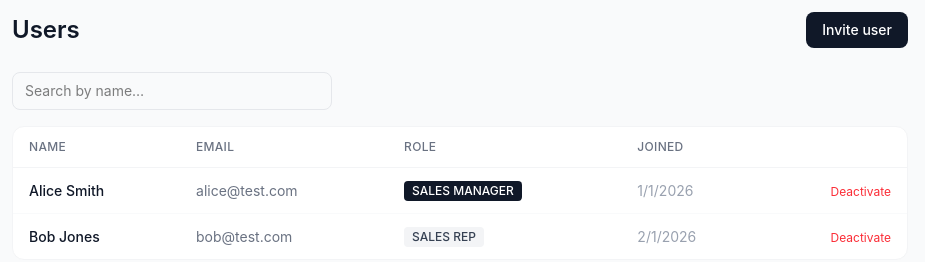
Scenario: UsersPage › filters users when search input changes
This screenshot has width=925, height=262.
Expected: the text "Alice Smith" is shown, [13, 168, 180, 214]
Type "alice" into the search field.
click(172, 91); type("alice")  # box [12, 72, 332, 110]
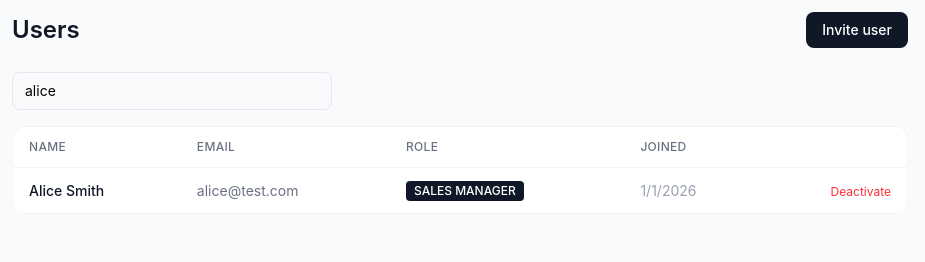
Expected: the text "Alice Smith" is shown, [13, 168, 181, 213]
Result: the text "Bob Jones" is gone
